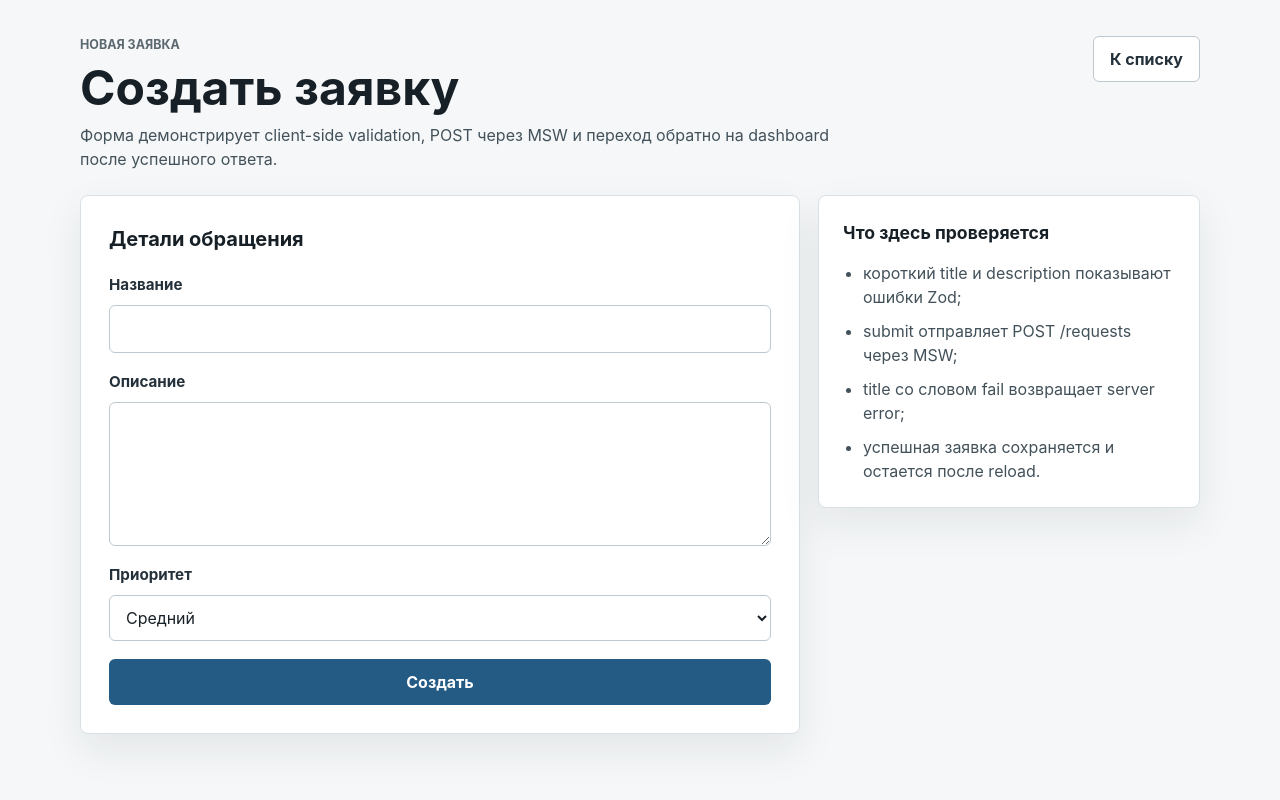
Test: CreateRequestPage › shows server error when API rejects creation
Type "Fail request" into the field labelled "Название".
click(440, 329); type("Fail request")  # box [109,305,771,353]
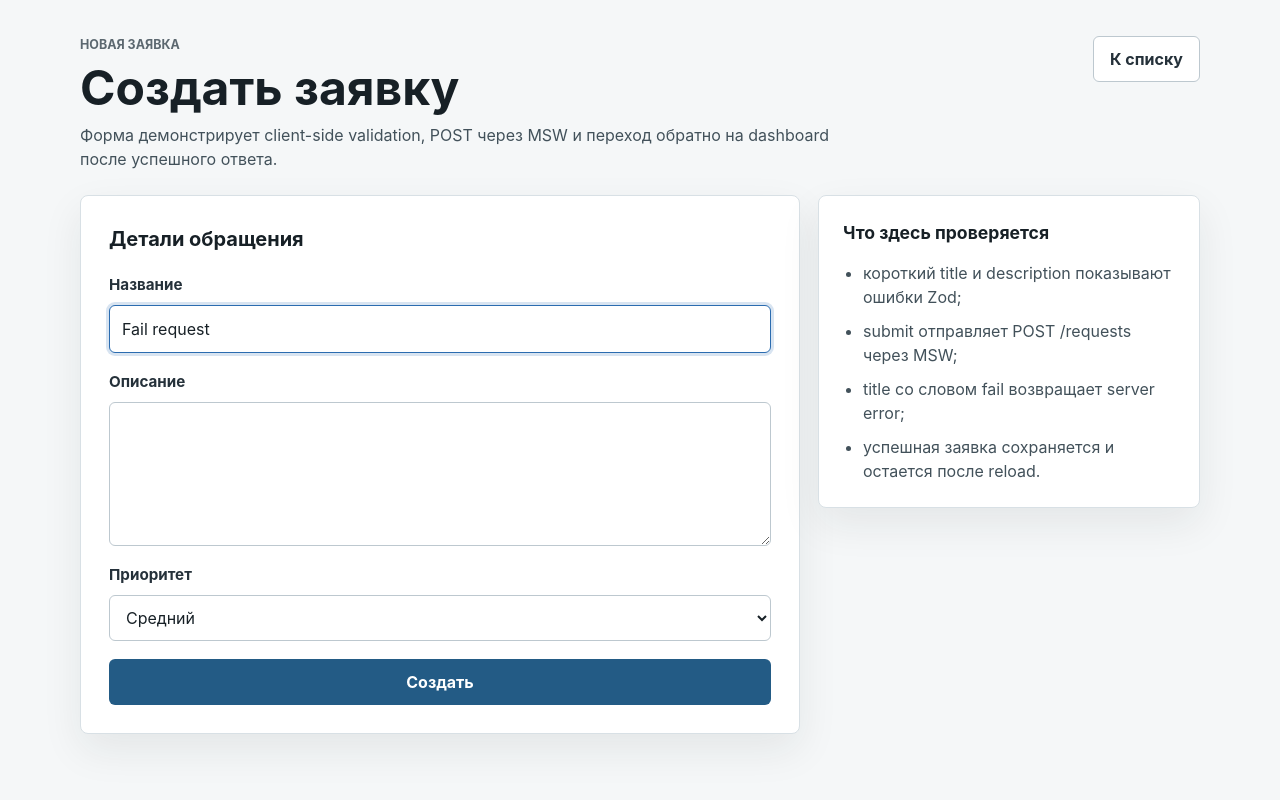
Type "This payload should trigger API failure." into the text box labelled "Описание".
click(440, 474); type("This payload should trigger API failure.")  # box [109,402,771,546]
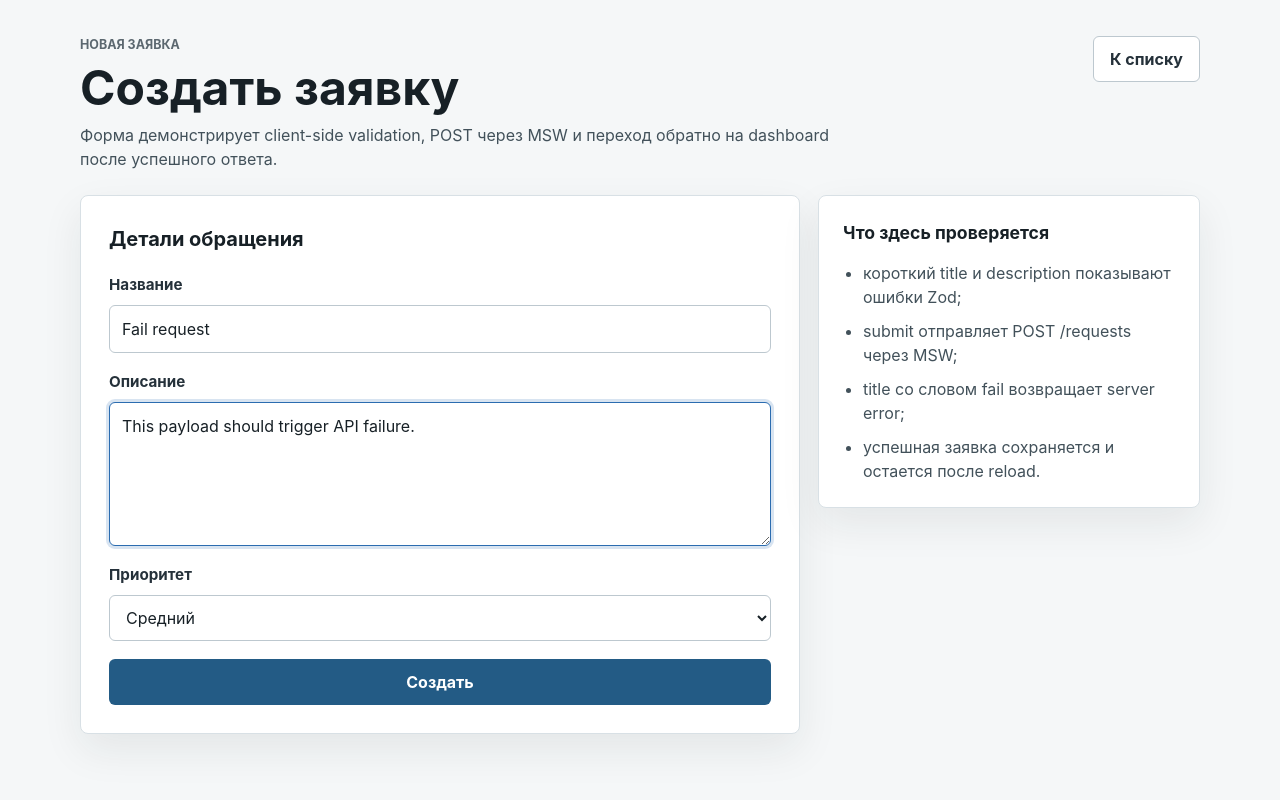
Select "Средний" in the dropdown labelled "Приоритет" at (440, 618), box [109,594,771,640]
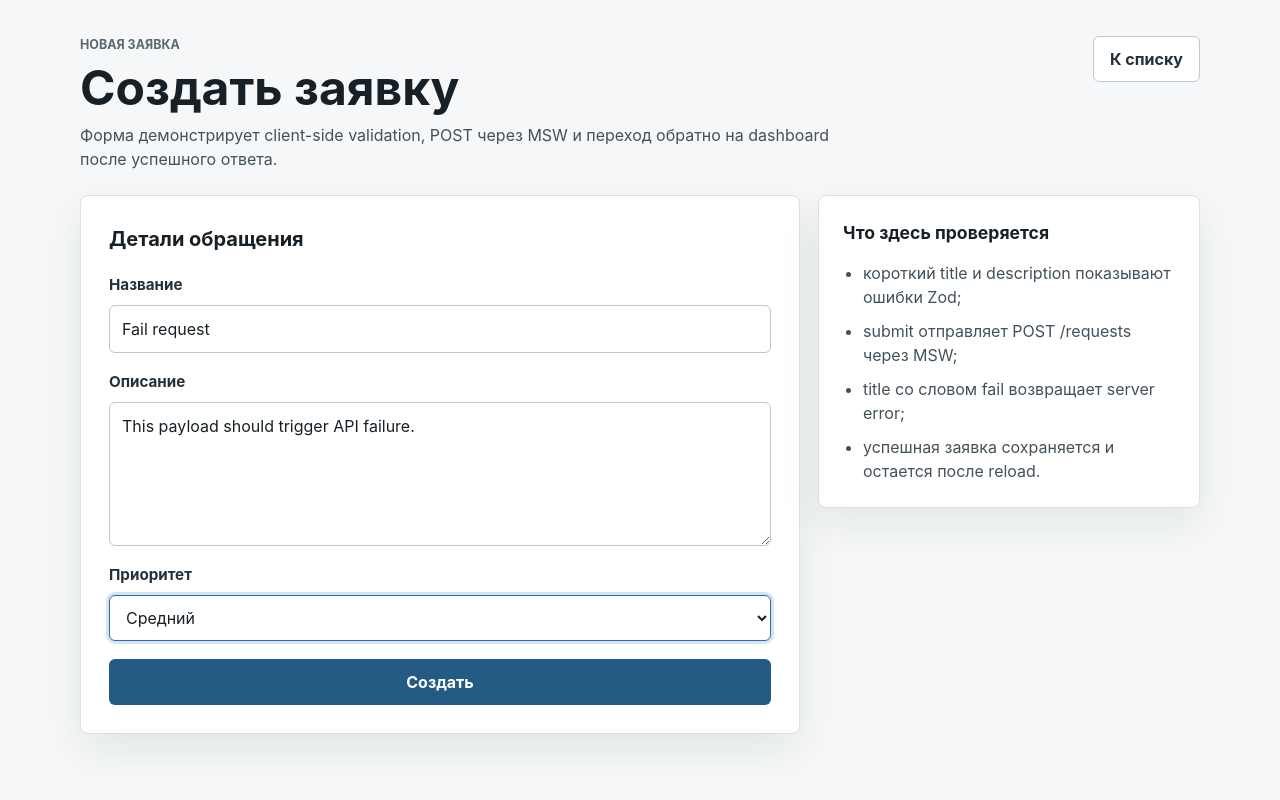
Click the button "Создать".
click(440, 682)  # box [109,658,771,704]
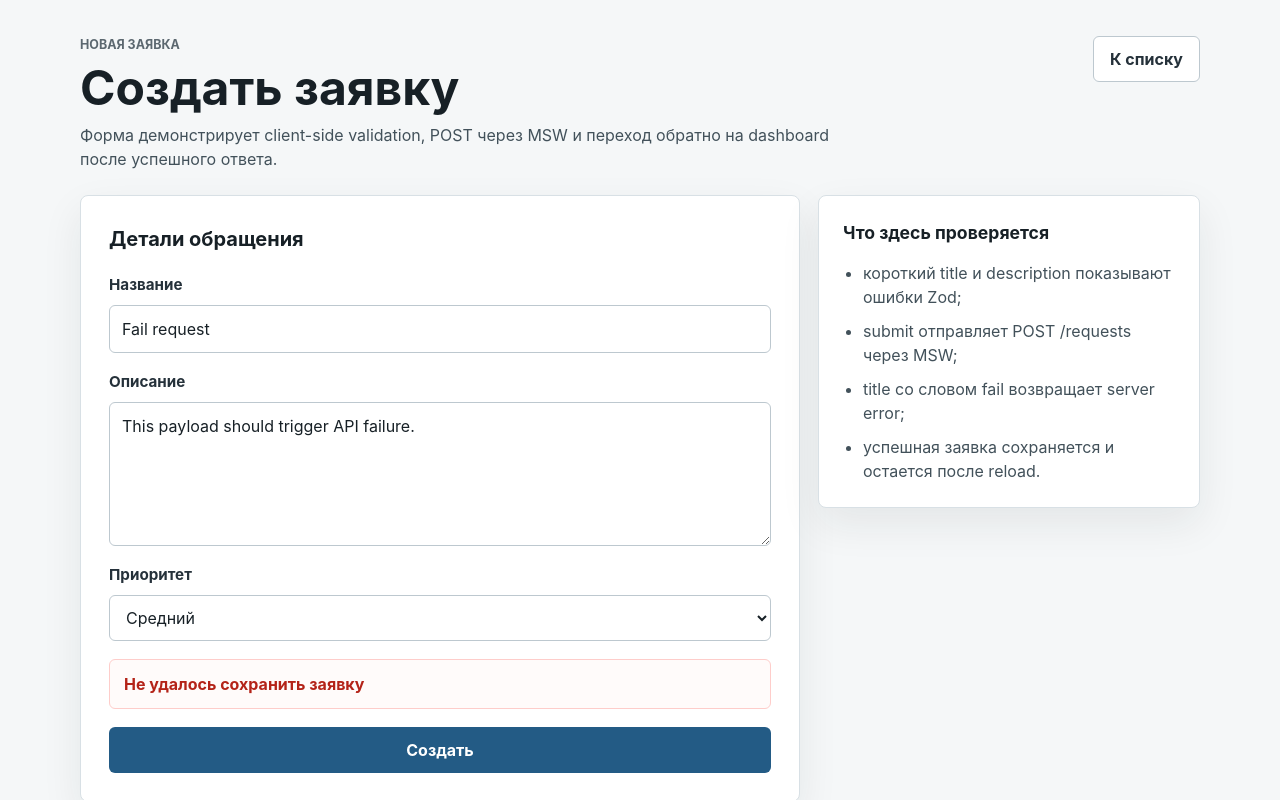
Expected: the message reads "Не удалось сохранить заявку", [124,674,364,694]
